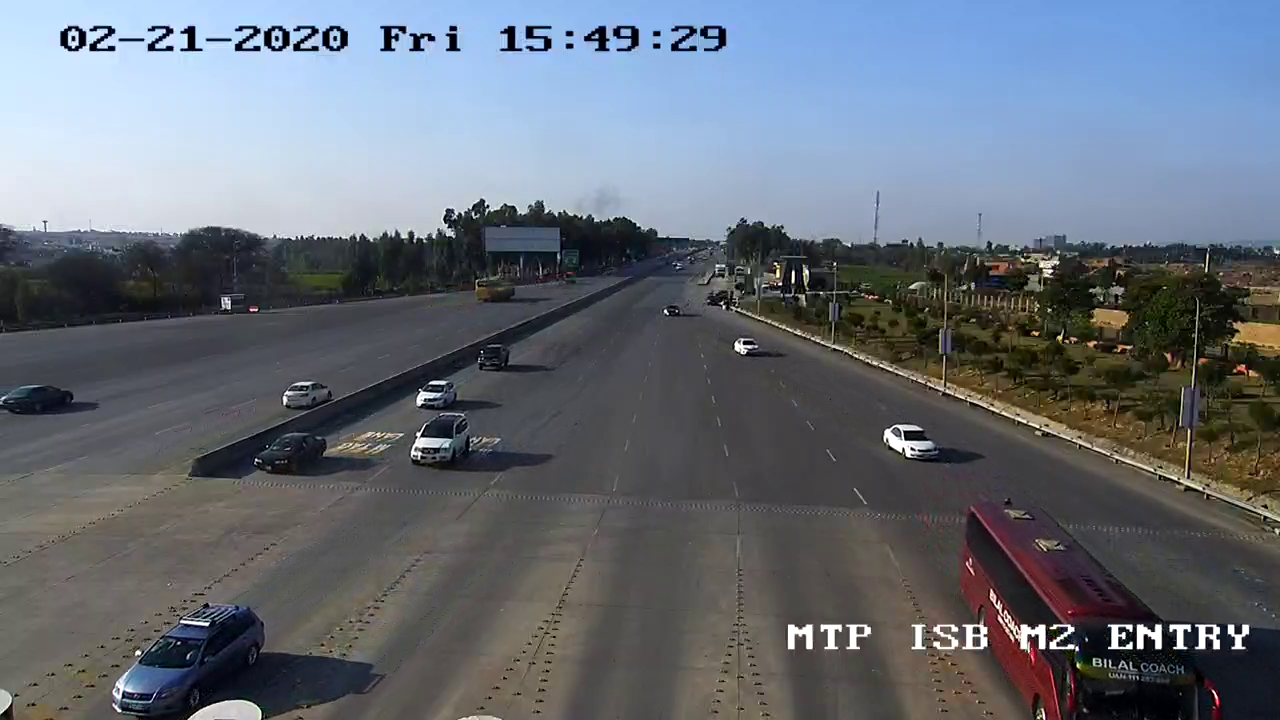f1: (94, 600, 275, 718), (242, 424, 331, 484), (402, 407, 475, 472), (871, 416, 944, 463)
f3: (961, 495, 1216, 720)
